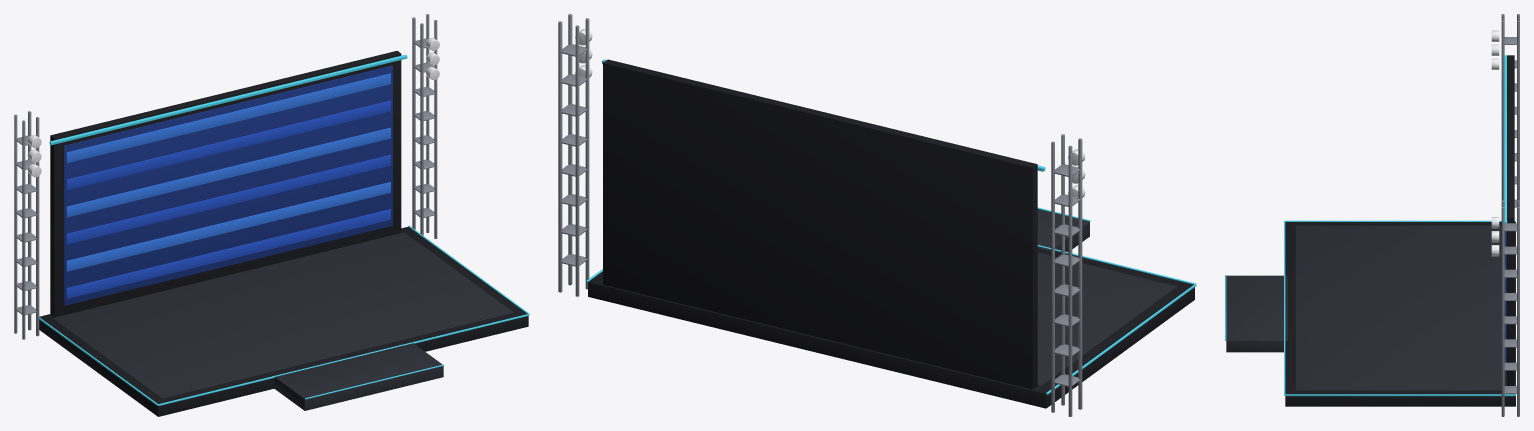
Rendered from palco_evento.glb.
The picture shows the model from 3 angles, left to right: view 1: azimuth 30°, elevation 25°; view 2: azimuth 150°, elevation 25°; view 3: azimuth 270°, elevation 25°; orthographic projection. The views are drawn at different scales.
Parts seen in each view (by area): view 1: palco_evento; view 2: palco_evento; view 3: palco_evento.
Boxes of the visible parts, x1,y1,x2,y2 form: palco_evento: (14, 14, 529, 416); palco_evento: (558, 14, 1196, 416); palco_evento: (1225, 14, 1519, 416).
Bounding box in the file's own units: 17.91 × 9 × 11.5.
